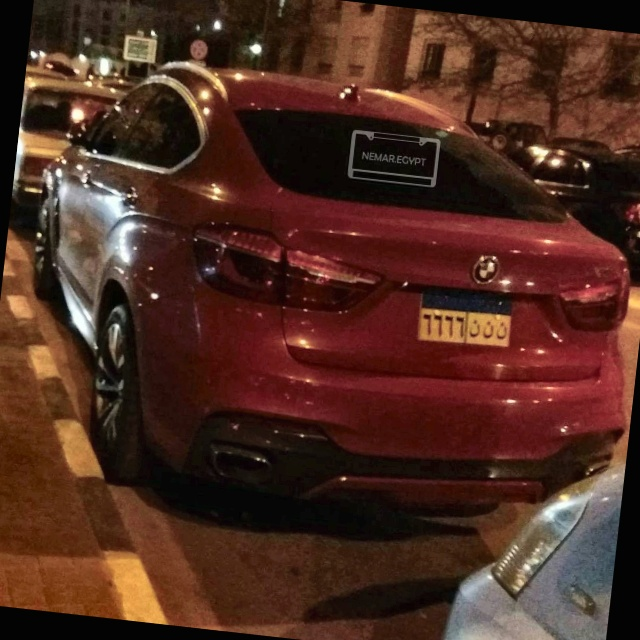License Plate: (410, 280, 522, 358)
